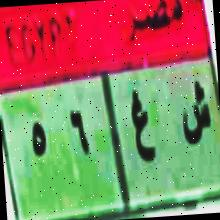5: (26, 97, 53, 168)
6: (66, 100, 94, 166)
ghayn: (123, 71, 163, 171)
sheen: (178, 70, 214, 154)
